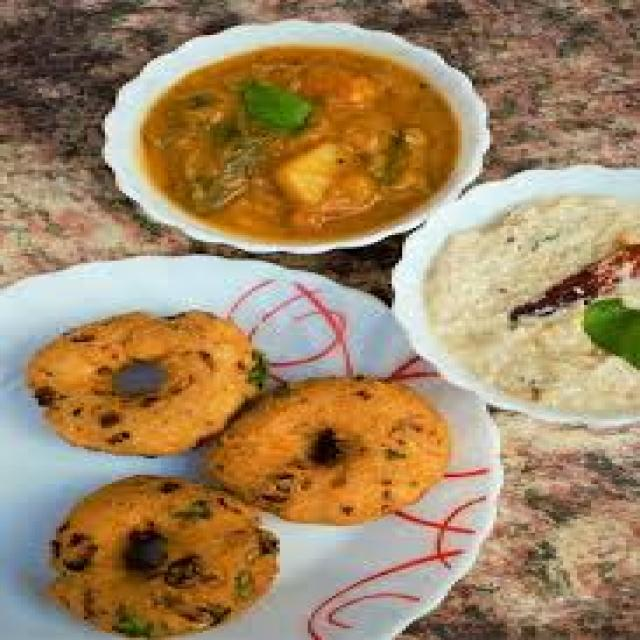MEDU VADA: (203, 381, 451, 528), (53, 479, 272, 632), (39, 314, 261, 451)
